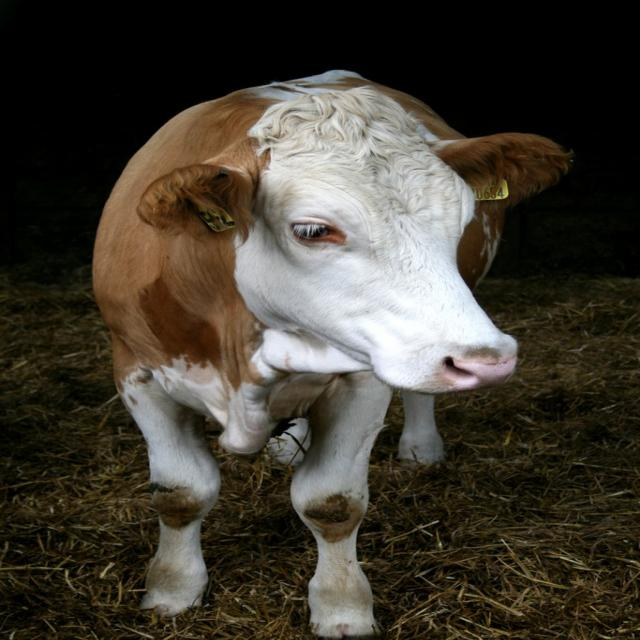Cattle: (92, 69, 578, 640)
